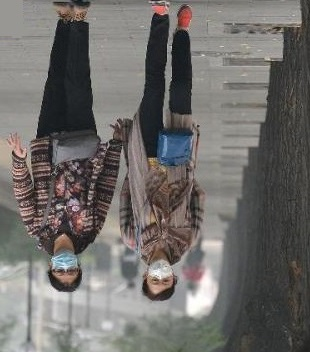person: (7, 1, 123, 299), (120, 1, 207, 300), (182, 237, 205, 297), (121, 245, 140, 291)
